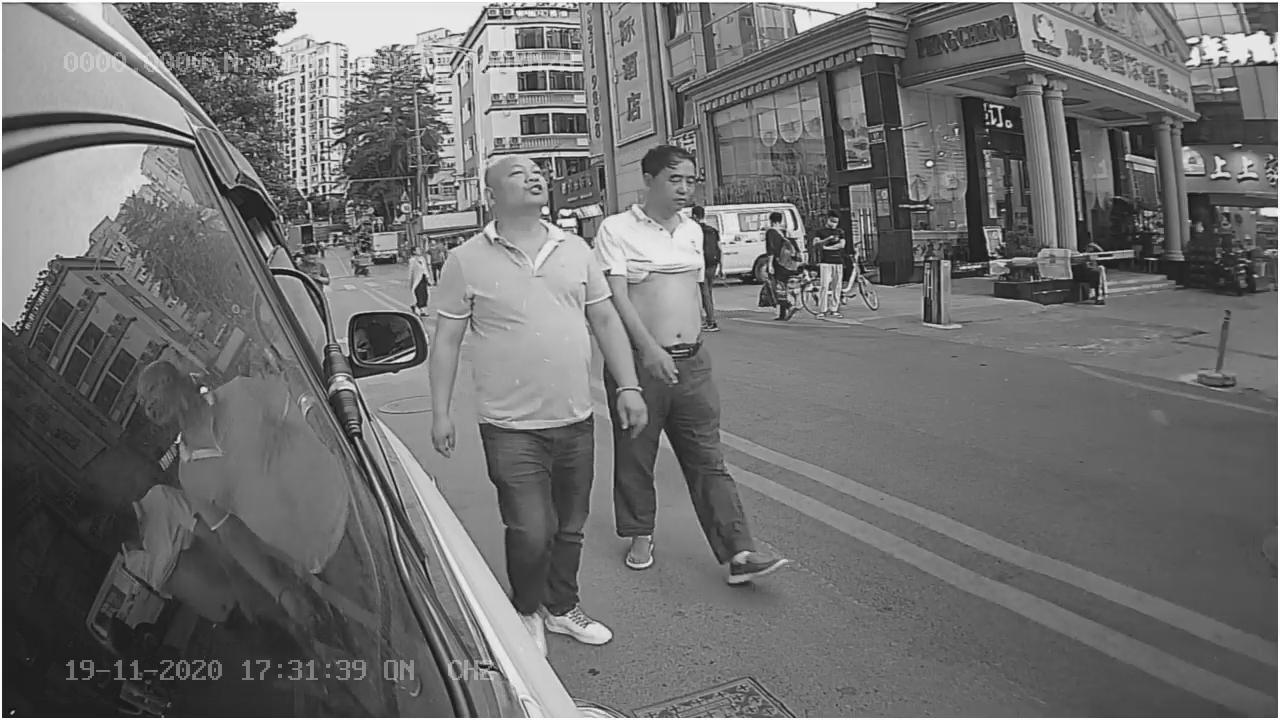person: (426, 156, 605, 473)
